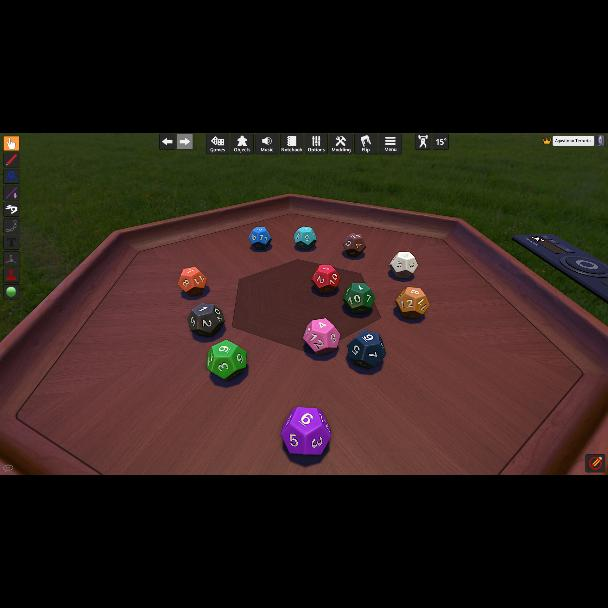d12: (282, 406, 328, 454), (207, 340, 247, 382), (349, 330, 387, 370), (303, 318, 339, 356), (188, 304, 224, 339), (395, 287, 427, 319), (343, 283, 375, 315), (178, 267, 208, 297), (312, 265, 338, 293), (390, 252, 416, 278), (248, 226, 272, 250), (342, 233, 364, 257), (294, 227, 314, 249)
